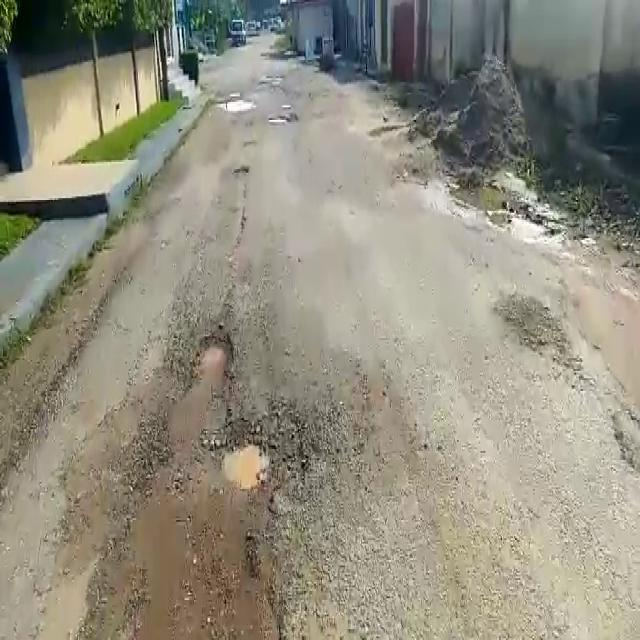Pothole: (218, 441, 272, 497), (195, 335, 233, 383), (208, 97, 256, 114)
